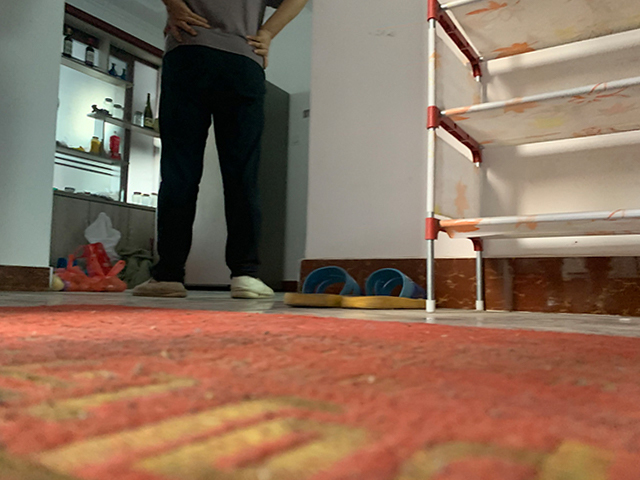carpet: (1, 303, 640, 479)
slippers: (339, 267, 435, 311), (277, 265, 361, 307)
